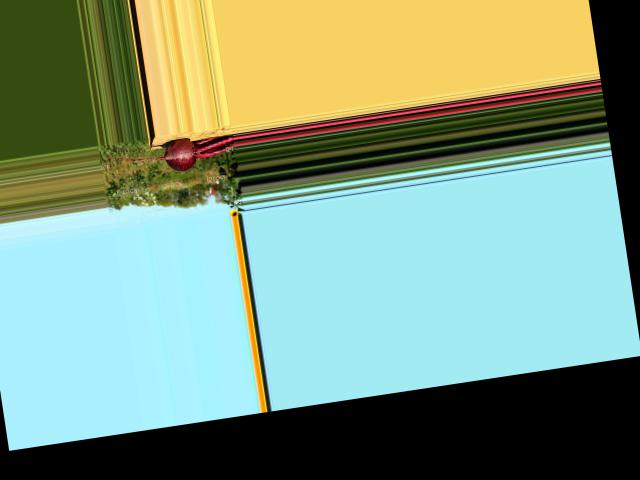beet: (103, 130, 238, 181)
